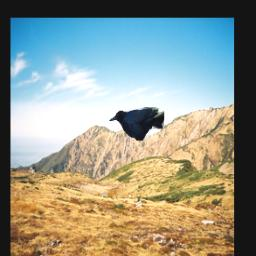Crow: (108, 107, 164, 141)
